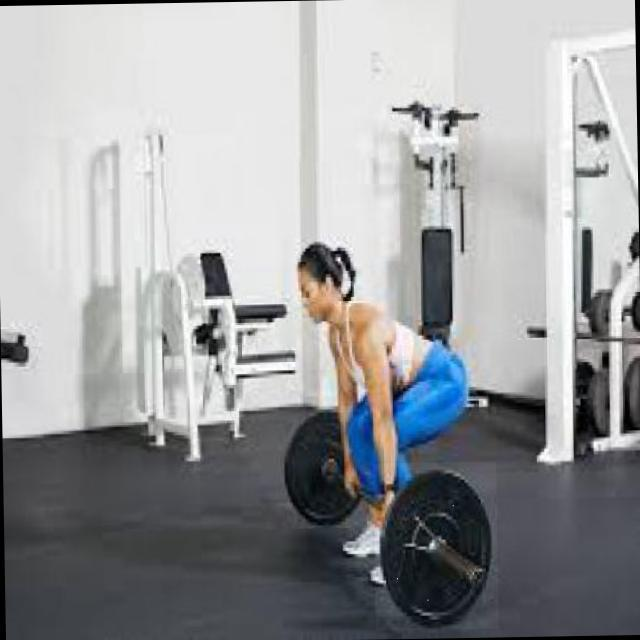barbell: (374, 462, 500, 631)
